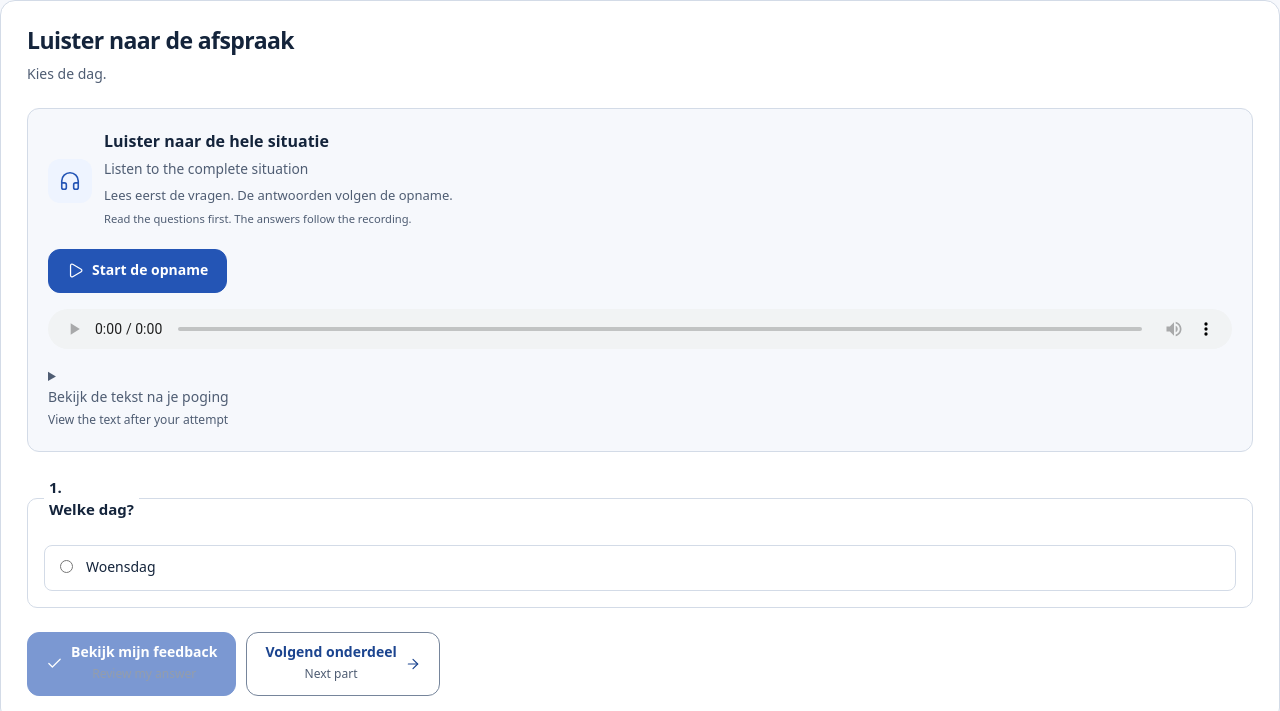
Test: a failed audio request leaves the selected answer intact and can be retried
Click the radio button: (66, 566) [60,560,73,573]
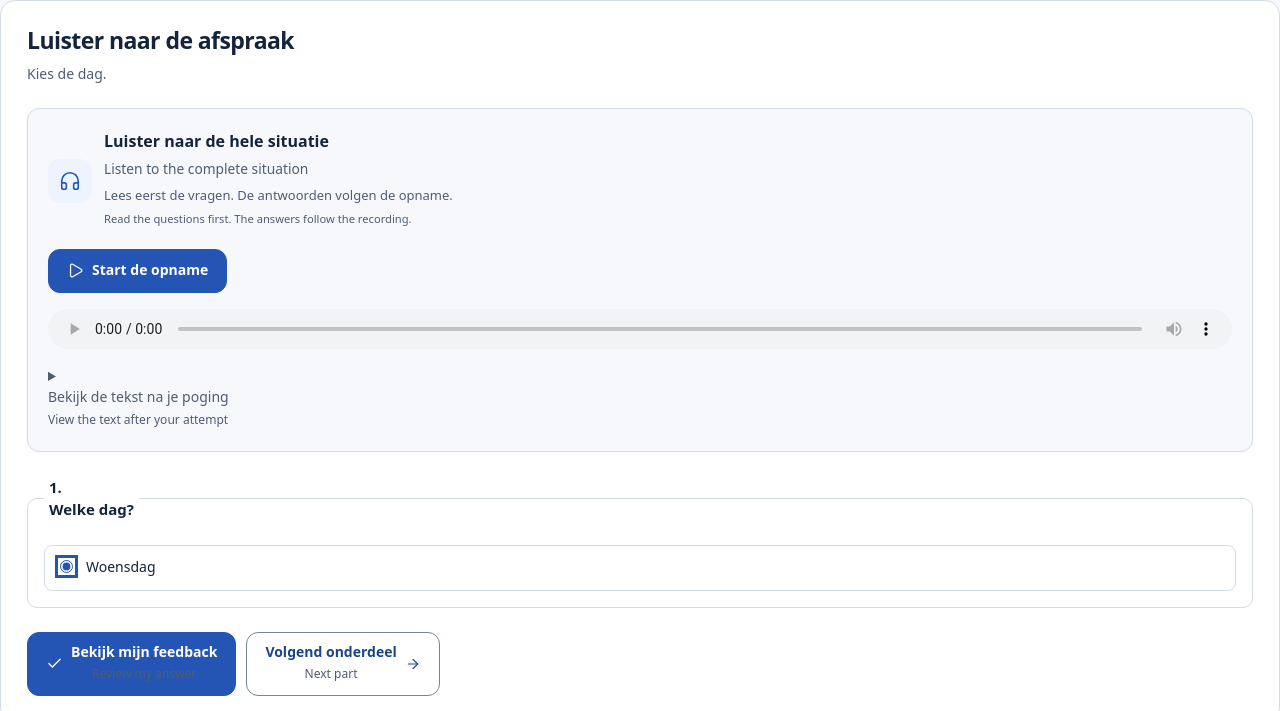
Click the button "Start de opname": (138, 270) [48,248,227,292]
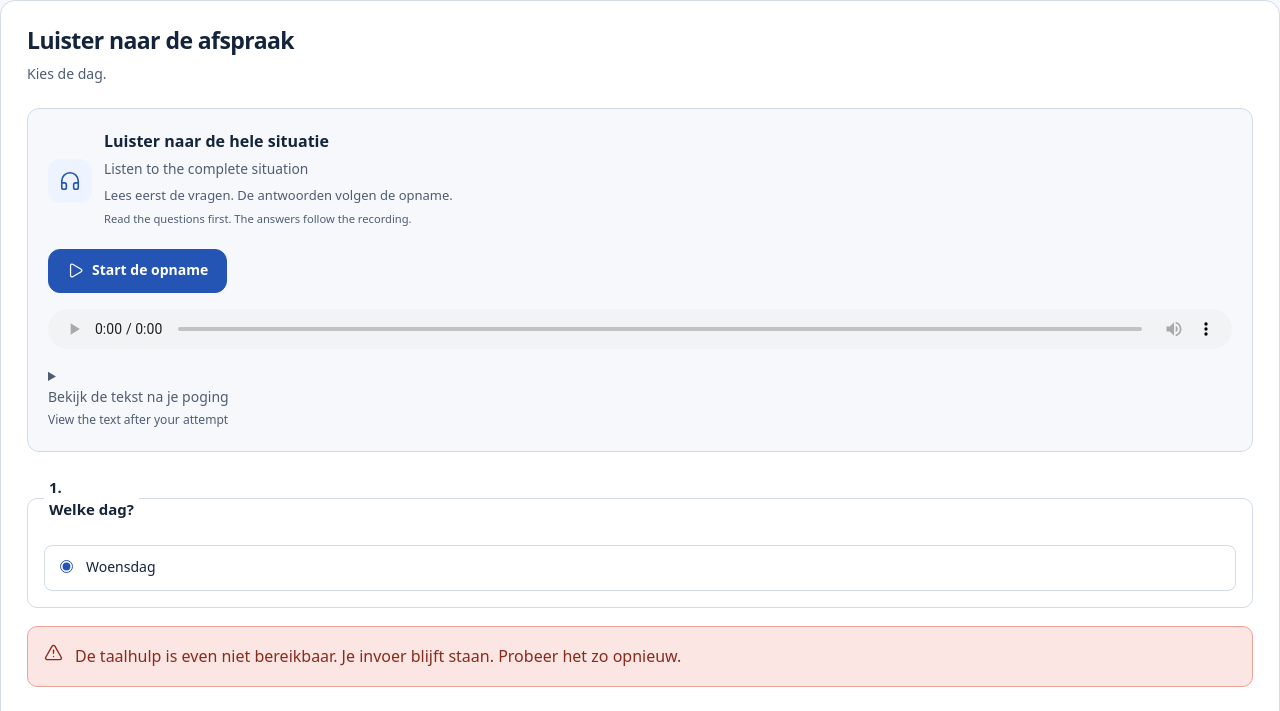
Expected: the radio button is checked, [60,560,73,573]
Expected: the message is shown, [27,626,1253,687]
Click the button "Start de opname": (138, 270) [48,248,227,292]
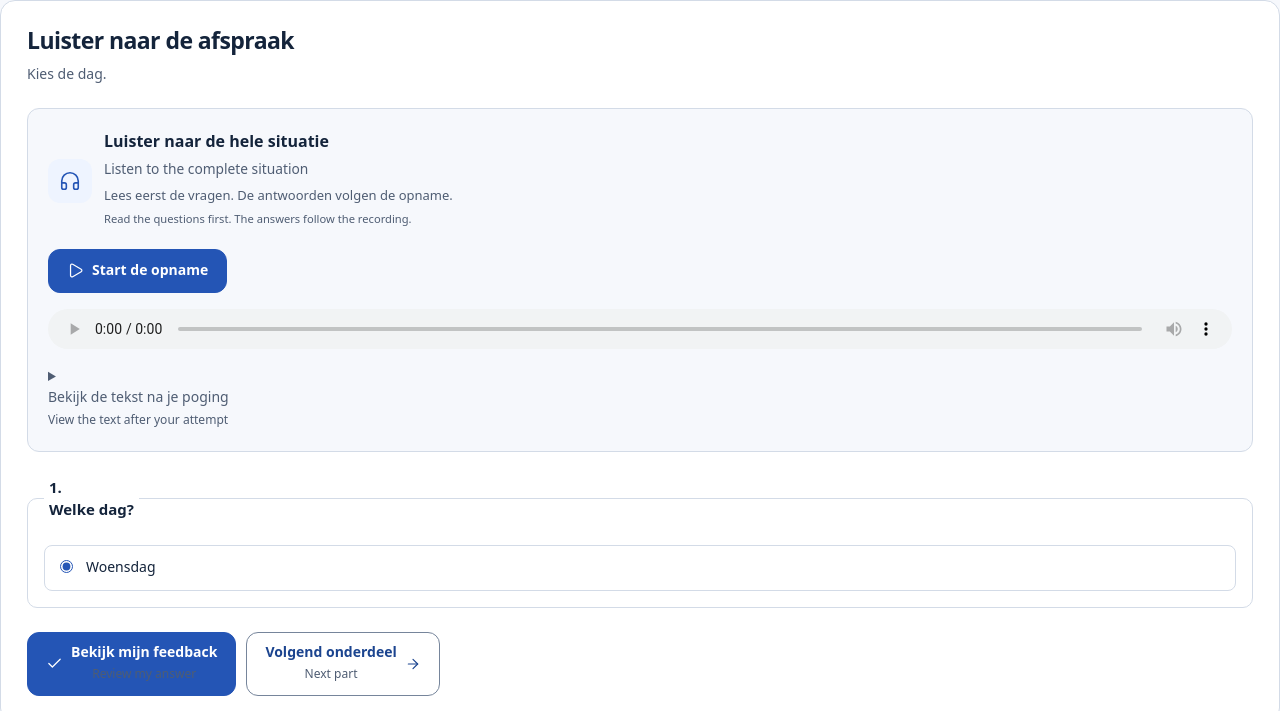
Expected: the radio button is checked, [60,560,73,573]
Expected: the message is gone
